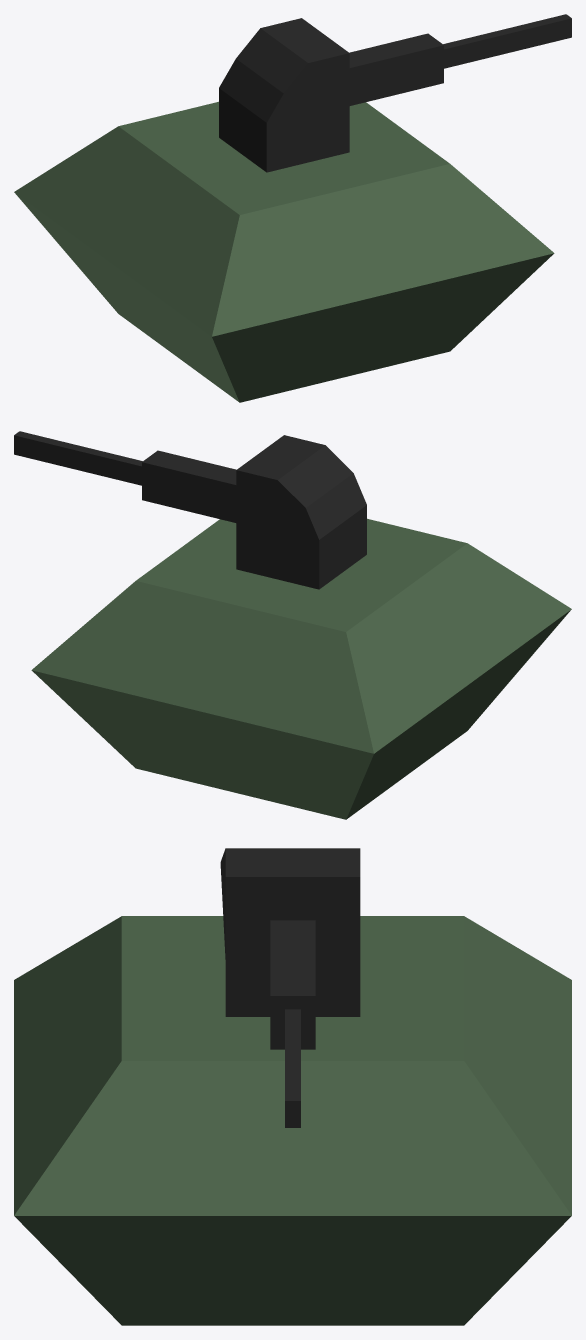
The model's file is Tank.fbx.
3 renders of one model, top to bottom at view 1: azimuth 30°, elevation 25°; view 2: azimuth 150°, elevation 25°; view 3: azimuth 270°, elevation 25°, orthographic. The views are drawn at different scales.
Visible parts, largest first — view 1: Base, Turret; view 2: Base, Turret; view 3: Base, Turret.
Part boxes in pixels (<box>): Base: <box>14,101,554,402</box>; Turret: <box>219,14,571,172</box>; Base: <box>31,518,571,819</box>; Turret: <box>14,431,366,589</box>; Base: <box>14,916,571,1325</box>; Turret: <box>220,848,360,1127</box>.
Size of the model in its own units: 326 by 434 by 261.
